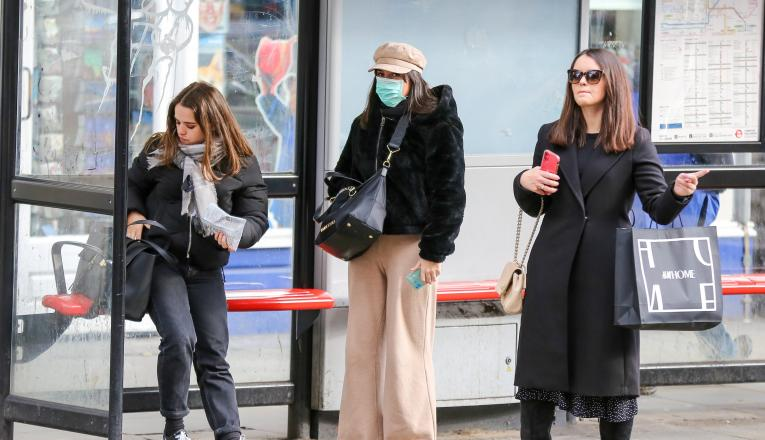with_mask: (376, 70, 409, 97)
without_mask: (572, 67, 602, 103), (174, 114, 201, 144)
